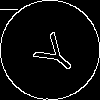Y: (25, 25, 82, 80)
